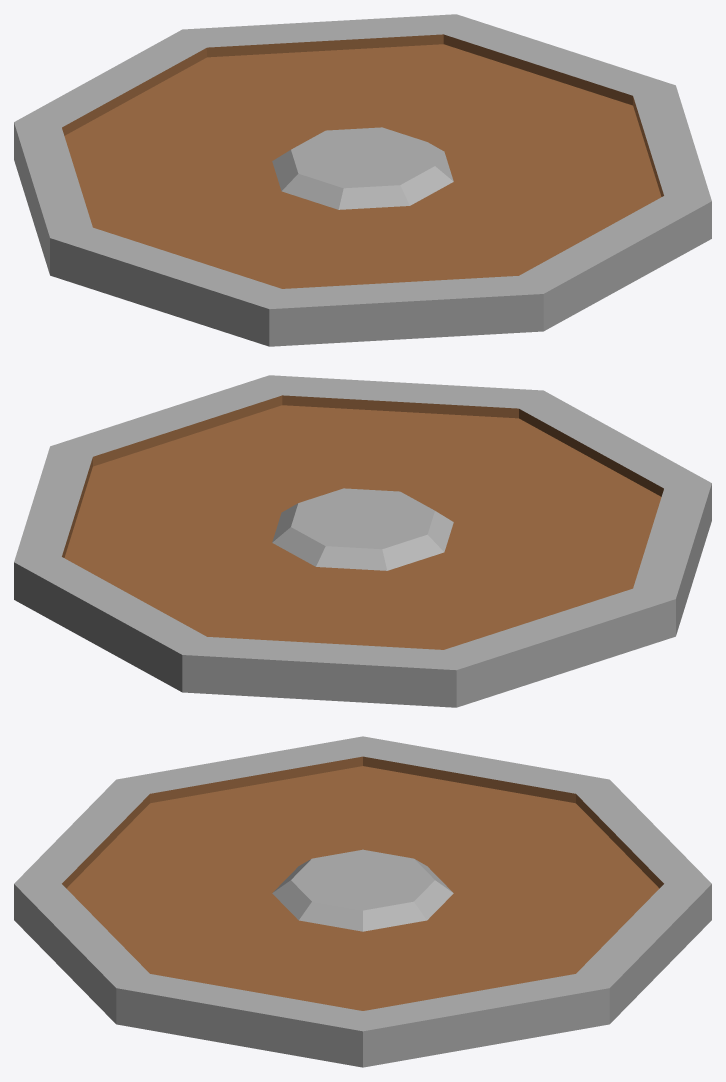
The model's file is Shield.fbx.
The picture shows the model from 3 angles, top to bottom: view 1: azimuth 30°, elevation 25°; view 2: azimuth 150°, elevation 25°; view 3: azimuth 270°, elevation 25°; orthographic projection. The views are drawn at different scales.
Parts seen in each view (by area): view 1: Shield; view 2: Shield; view 3: Shield.
Boxes of the visible parts, x1,y1,x2,y2 form: Shield: (14,14,711,346); Shield: (14,375,711,707); Shield: (14,736,711,1067).
Bounding box in the file's own units: 0.8 × 0.0506 × 0.8.
